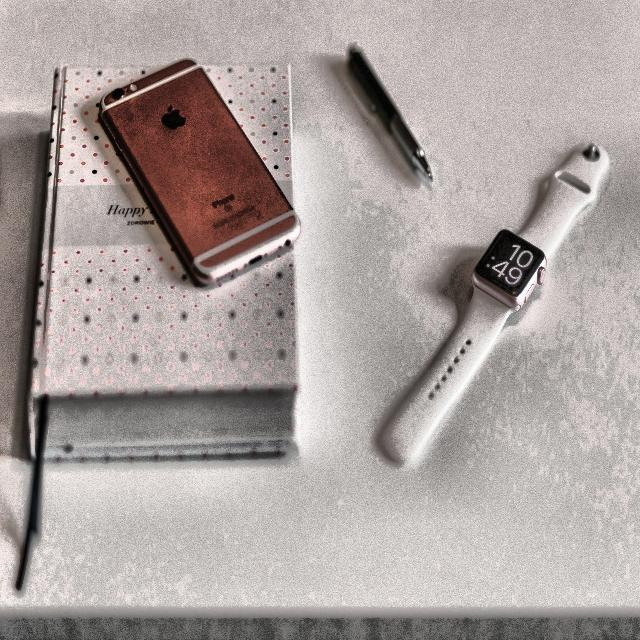Electronic watch: (379, 145, 608, 462)
PHONE: (100, 60, 300, 284)
